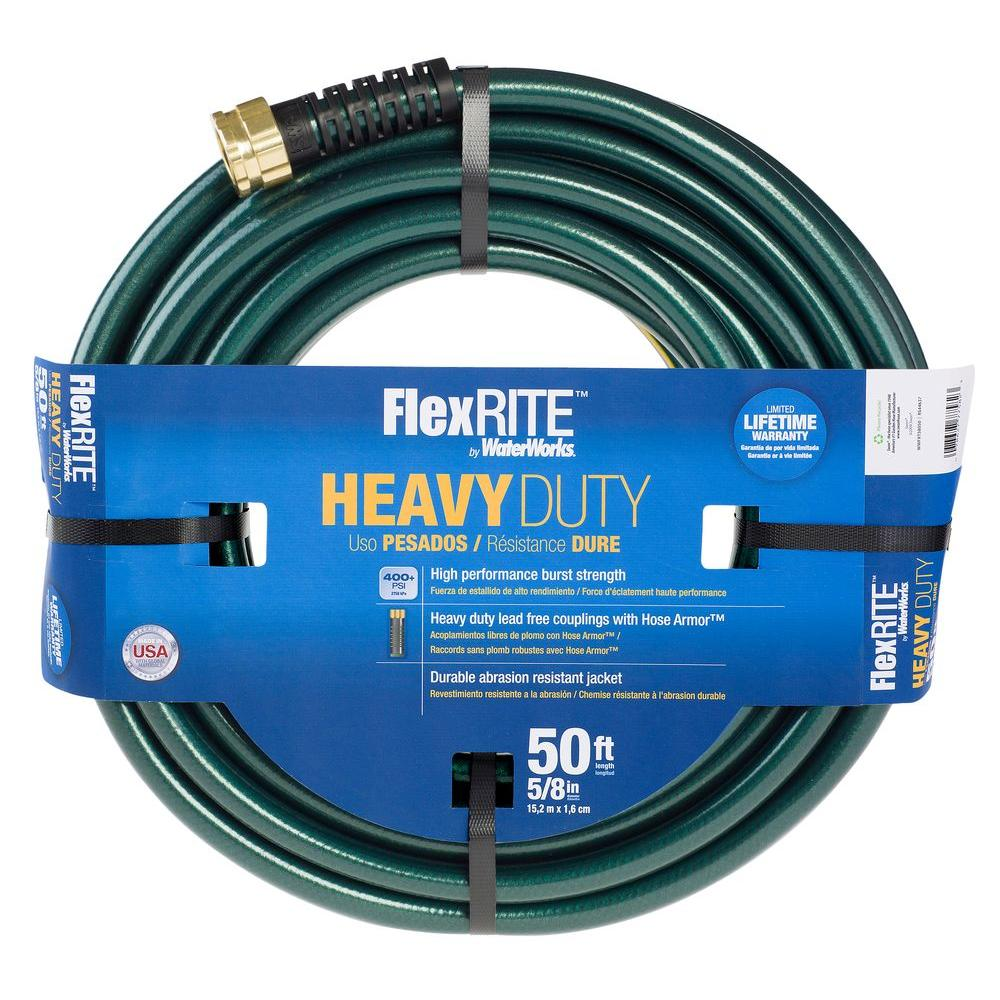Nonrec_Tangler: (33, 44, 943, 944)
